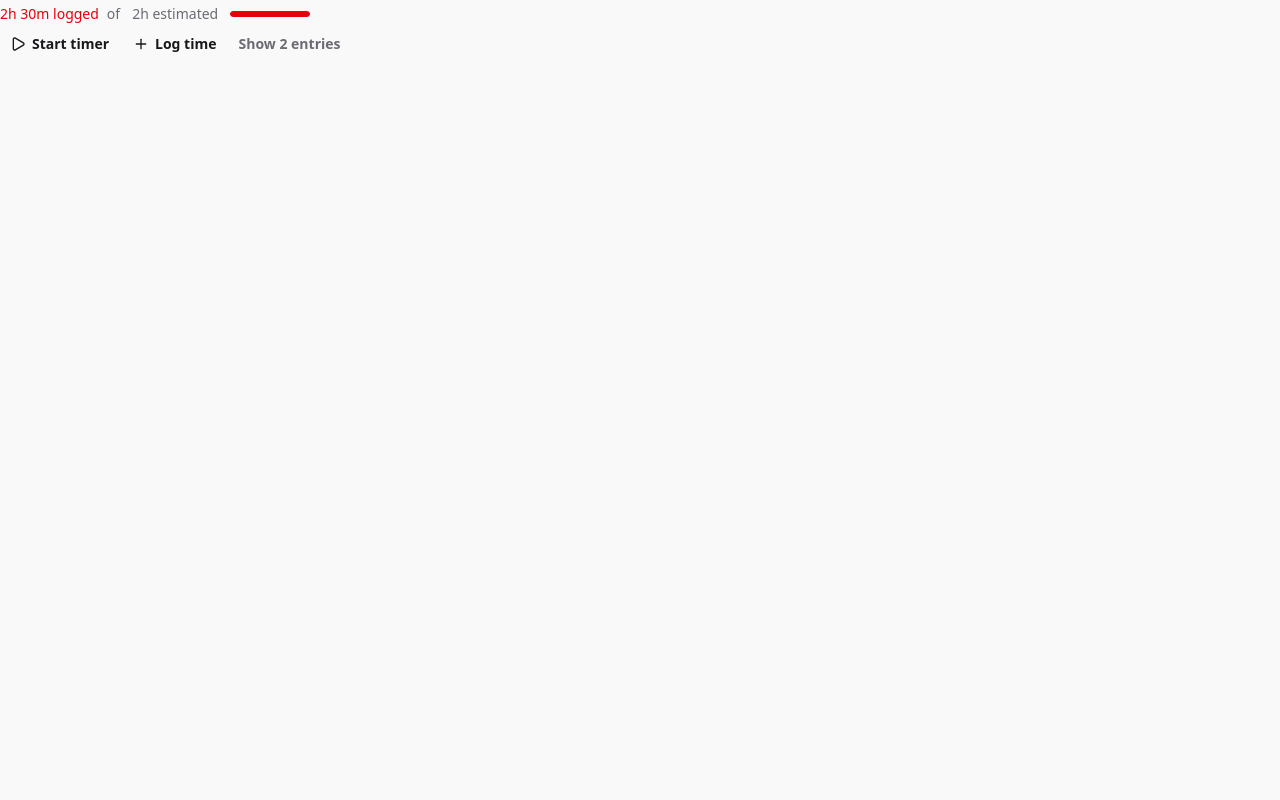
Test case: TaskTimeField › logs time the way it is written, and removes only one’s own entries
Click the button "Log time" at x=175, y=44, box x1=123 y1=30 x2=226 y2=58
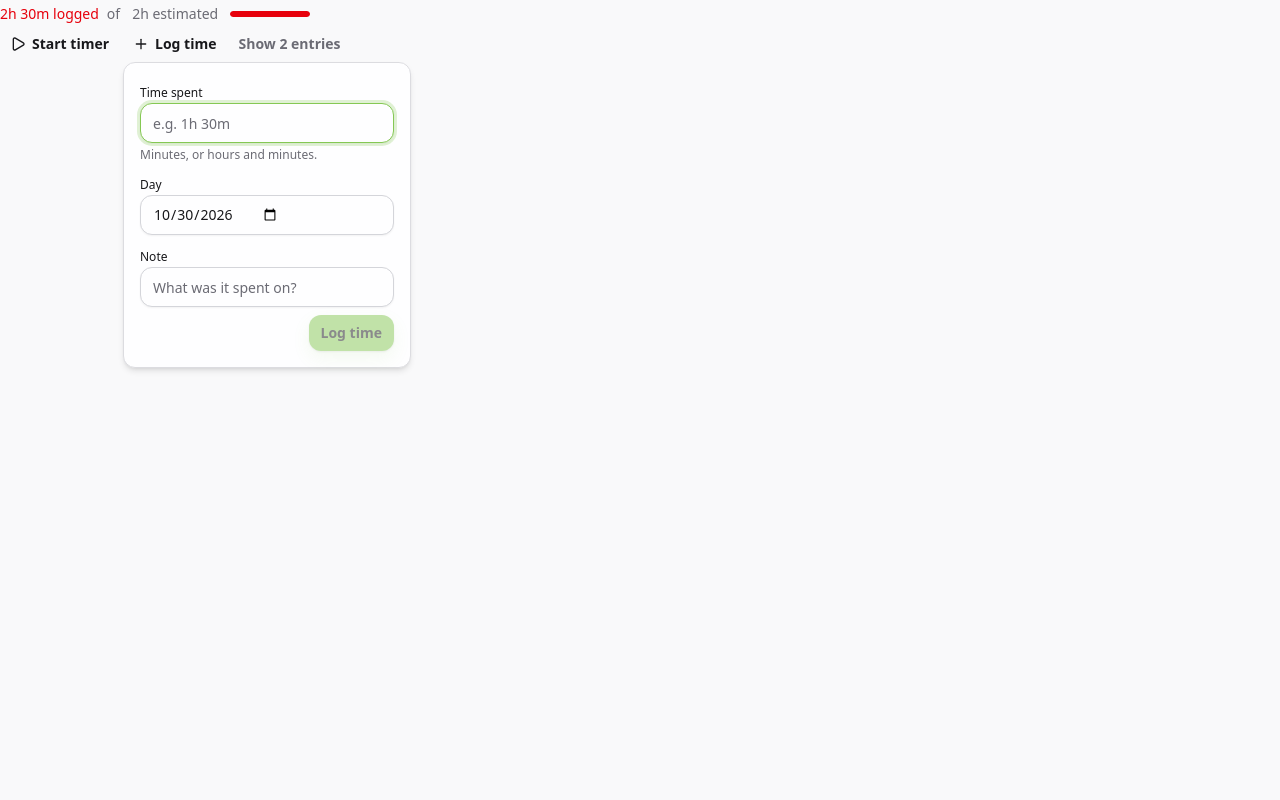
Type "1h 15m" into the field labelled "Time spent" at x=267, y=123, box x1=140 y1=103 x2=394 y2=143
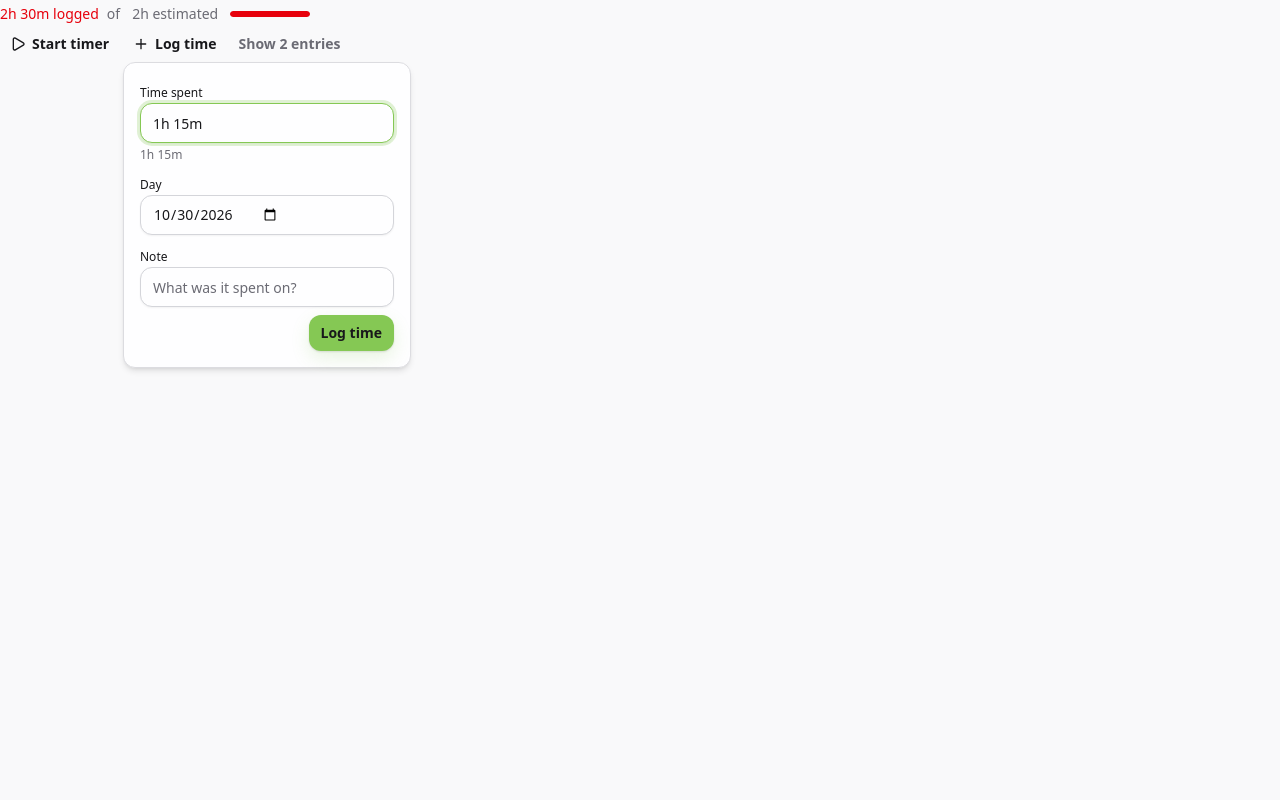
Expected: the text "1h 15m" is shown, x1=140 y1=146 x2=182 y2=163
Type "Report" into the field labelled "Note" at x=267, y=287, box x1=140 y1=267 x2=394 y2=307
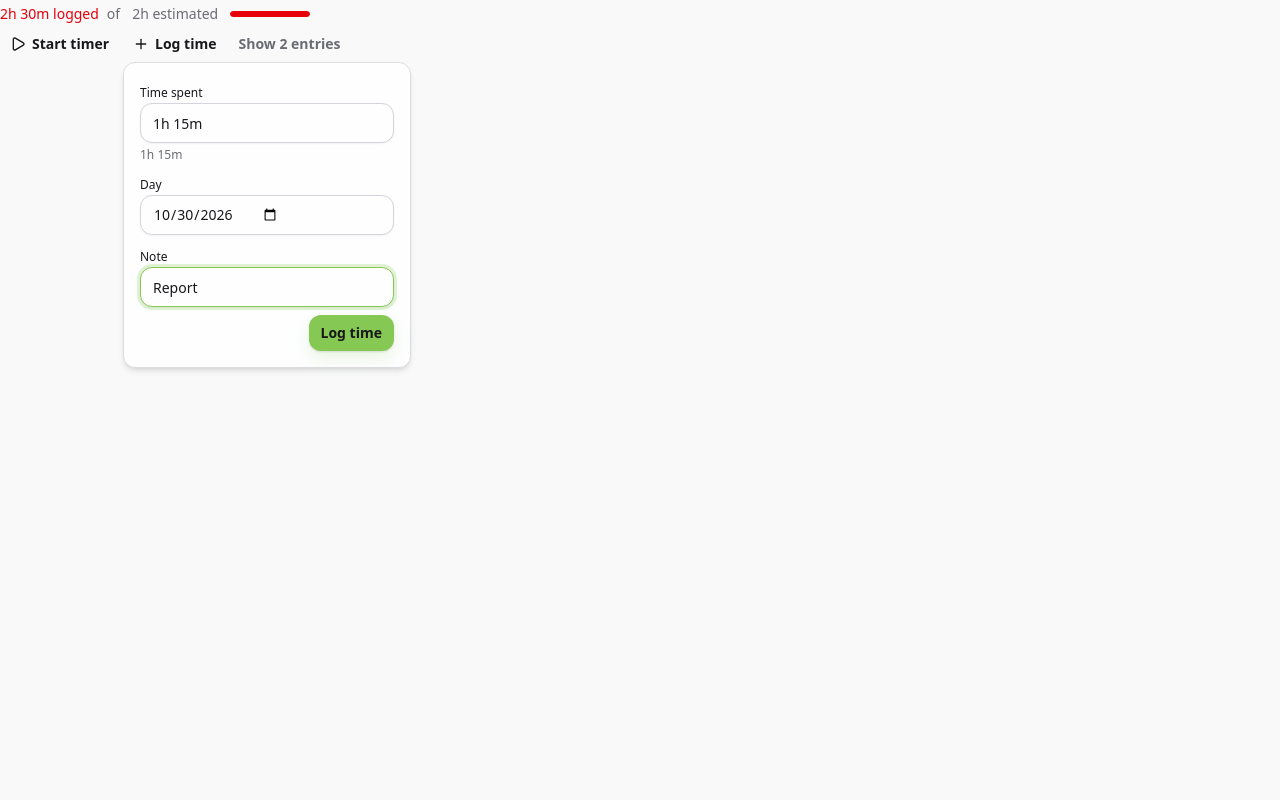
Click the button "Log time" below "Note" at x=351, y=333, box x1=308 y1=315 x2=394 y2=351
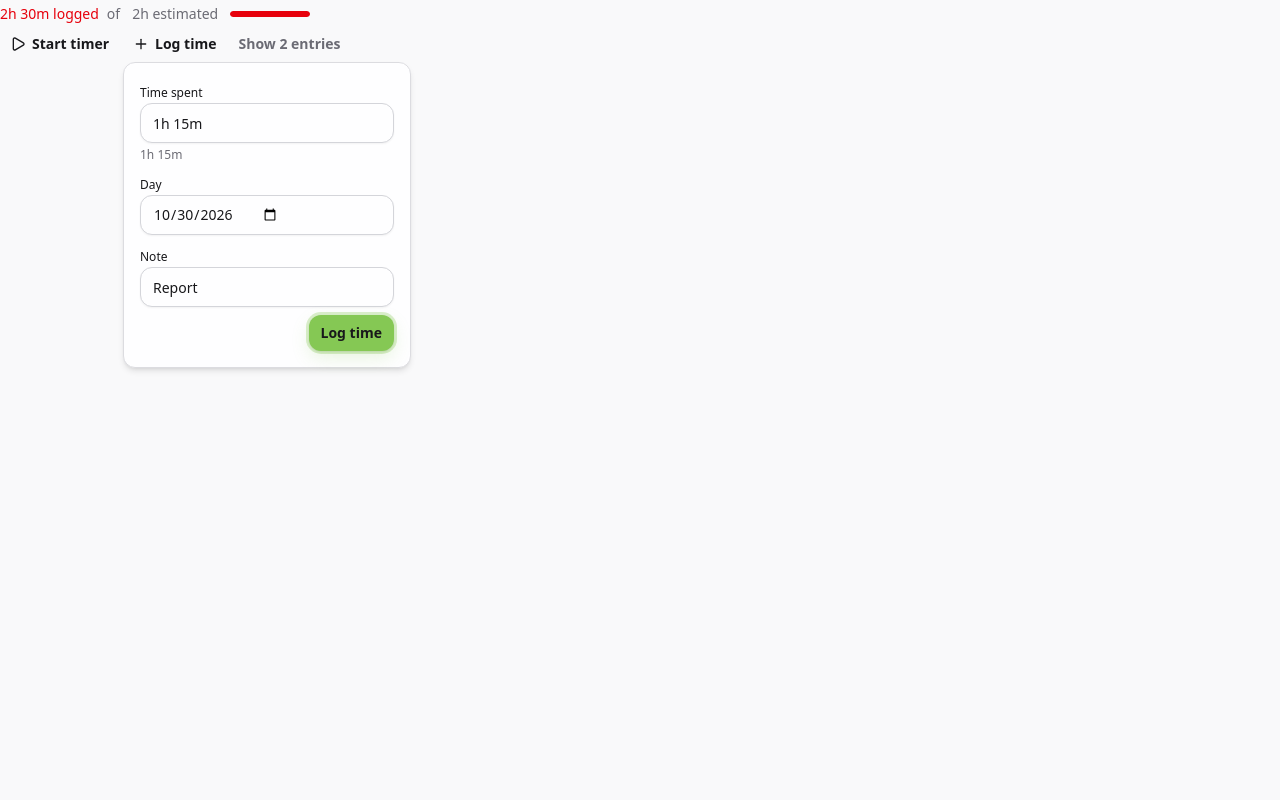
Click the button "Show 2 entries" at x=290, y=44, box x1=230 y1=30 x2=348 y2=58
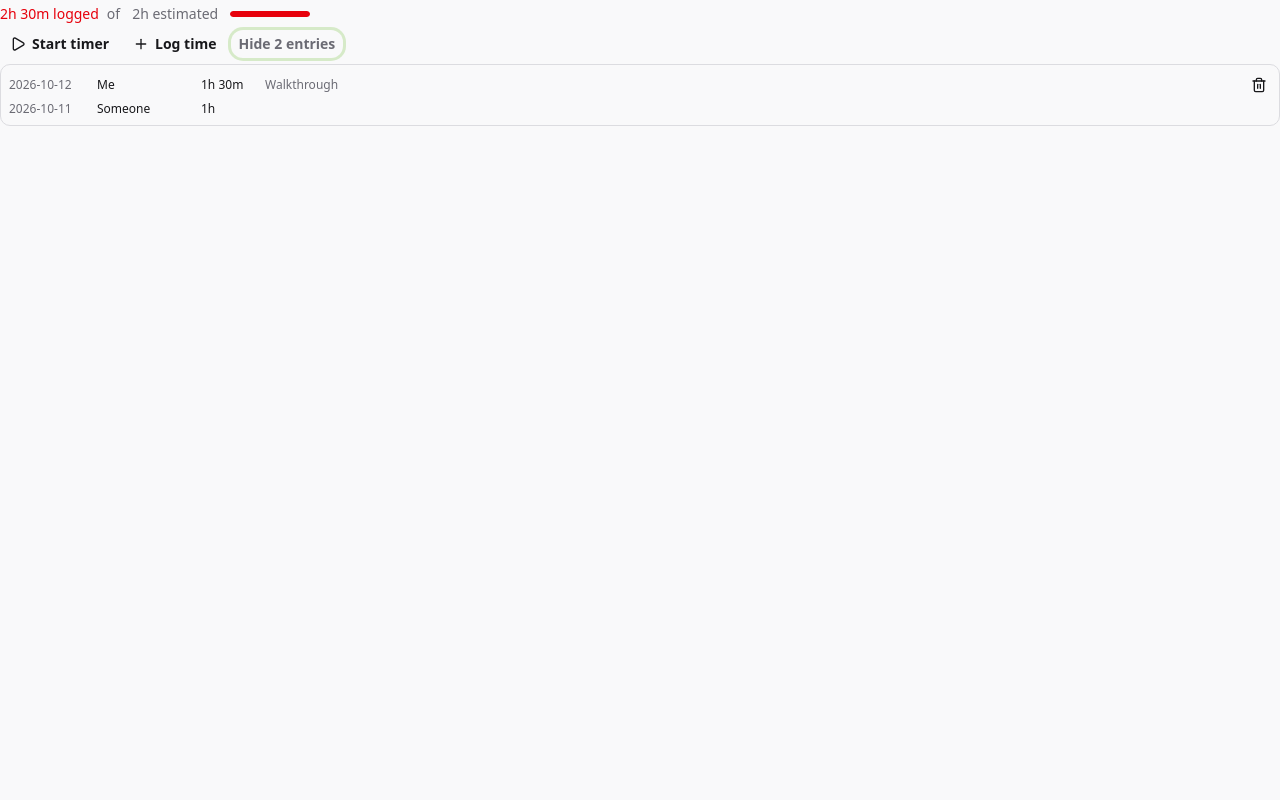
Expected: the button named "Remove 1h 30m logged on 2026-10-12" is shown, x1=1247 y1=73 x2=1271 y2=97
